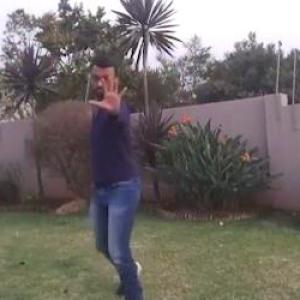follow_hand: (86, 68, 132, 119)
